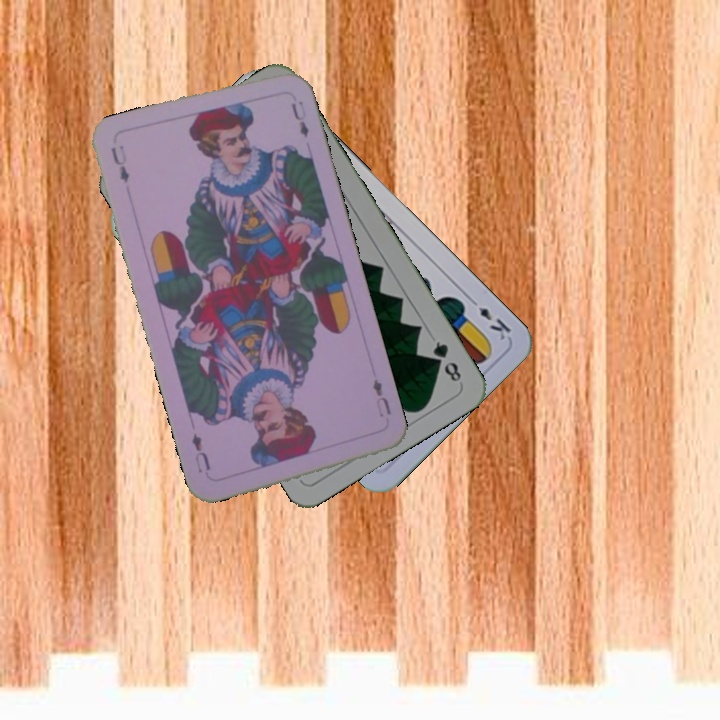EK: (464, 293, 514, 343)
EU: (368, 375, 394, 420), (107, 141, 132, 185)
G8: (428, 337, 464, 385)
